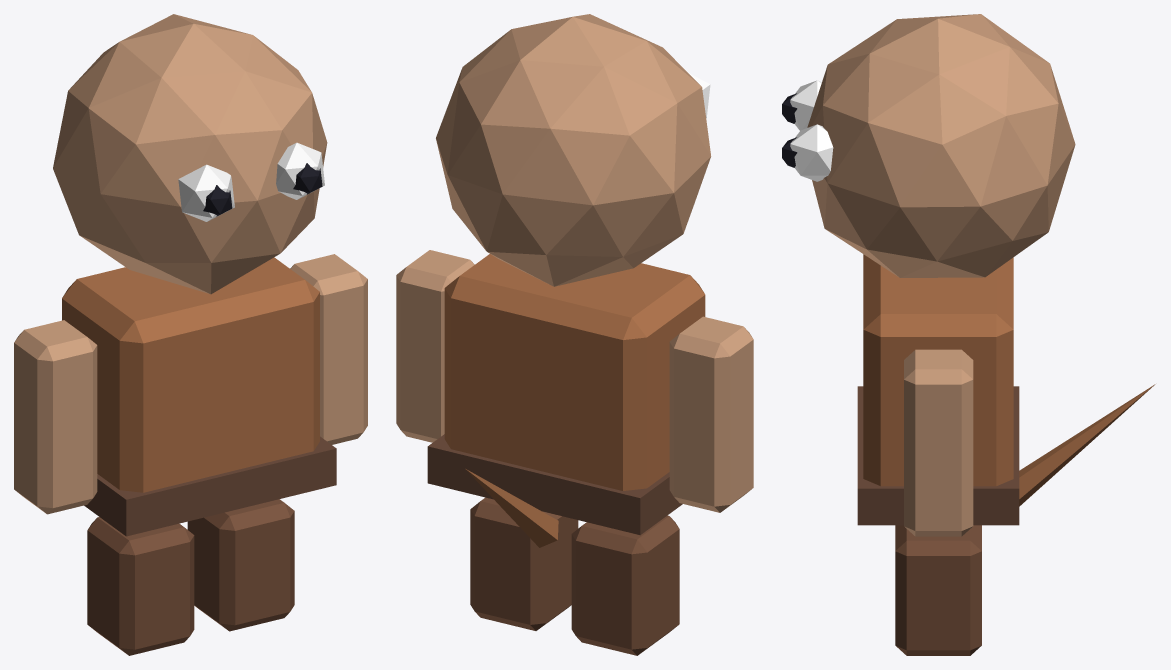
The model's file is ForestMonkey.fbx.
3 renders of one model, left to right at view 1: azimuth 30°, elevation 25°; view 2: azimuth 150°, elevation 25°; view 3: azimuth 270°, elevation 25°, orthographic.
Visible parts, largest first — view 1: ForestMonkey; view 2: ForestMonkey; view 3: ForestMonkey.
Part boxes in pixels (<box>): ForestMonkey: <box>14,14,367,655</box>; ForestMonkey: <box>396,14,753,655</box>; ForestMonkey: <box>782,14,1155,655</box>.
Bounding box in the file's own units: 3.3 × 5.73 × 3.24.
1 material, 1 textured.
